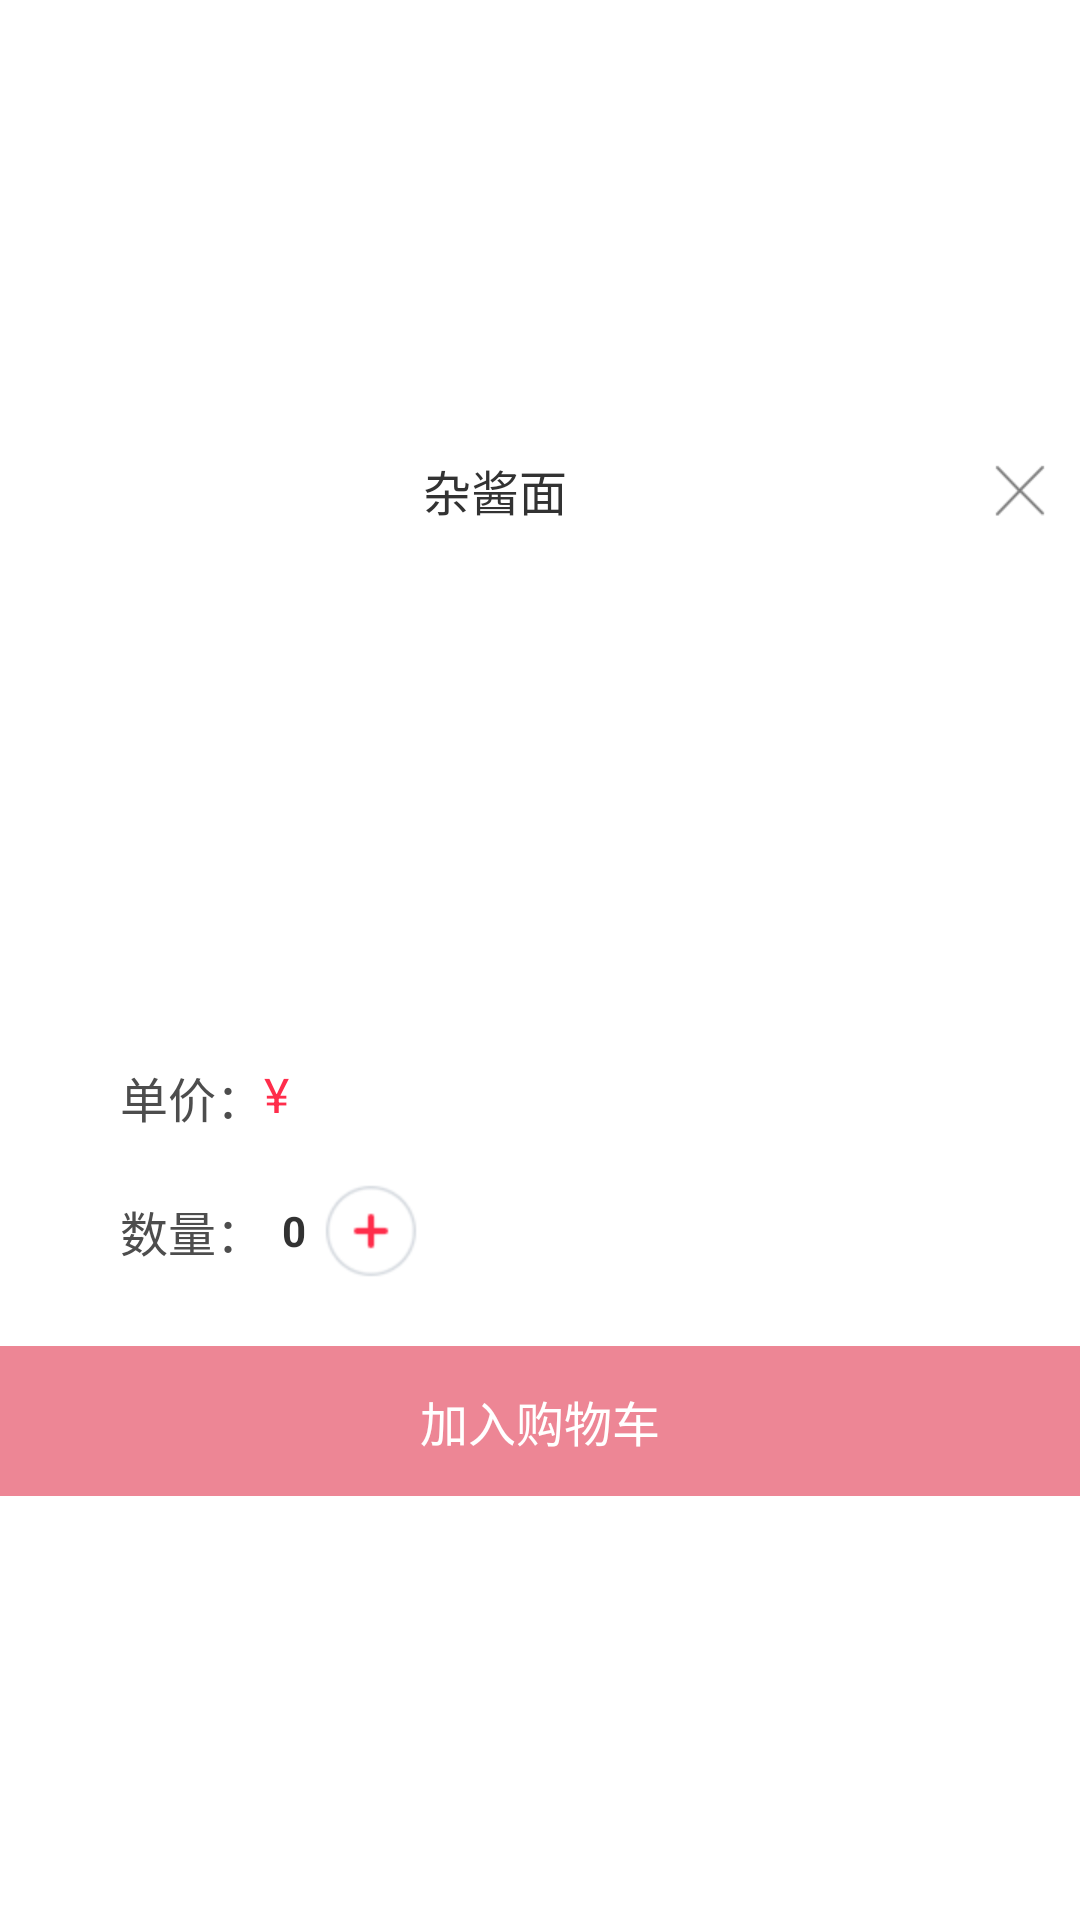

Named icons in this screenshot (1080 × 1920) and their centers, point (x, y):
waimai shopmenu dish close: point (1020, 491)
waimai shopmenu plus: point (371, 1231)
